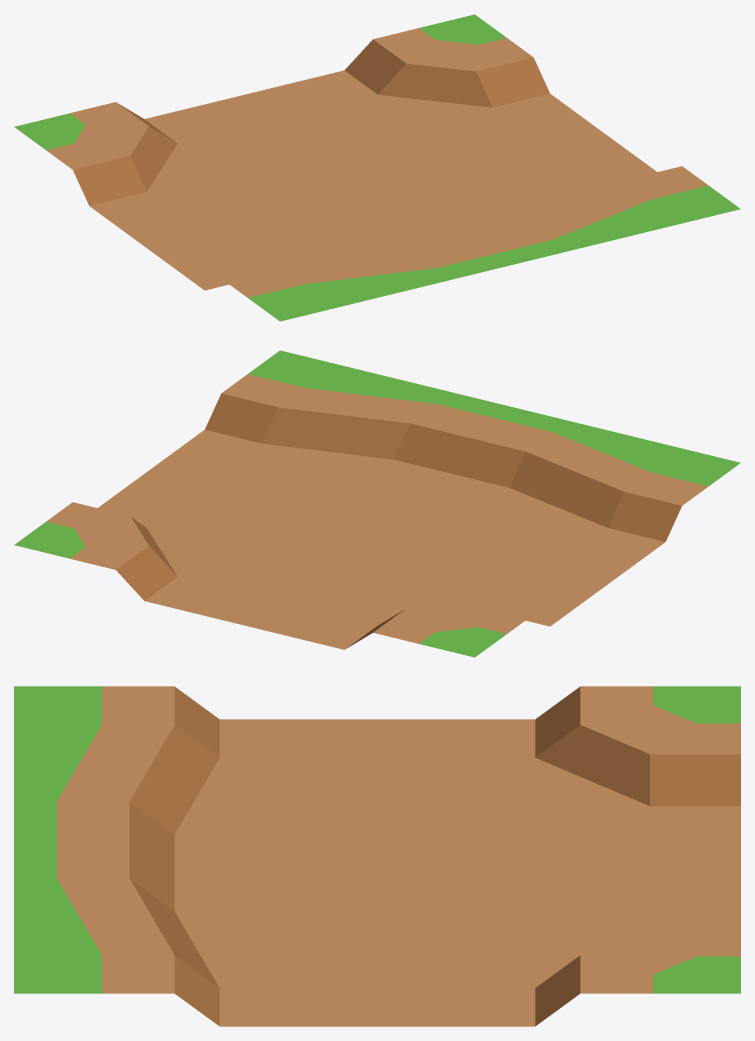
File: path-split.glb
3 views of the same model, one above another, from view 1: azimuth 30°, elevation 25°; view 2: azimuth 150°, elevation 25°; view 3: azimuth 270°, elevation 25° (orthographic). The views are drawn at different scales.
Parts seen in each view (by area): view 1: ground_pathSplit; view 2: ground_pathSplit; view 3: ground_pathSplit.
Boxes of the visible parts, x1,y1,x2,y2 form: ground_pathSplit: (14, 14, 740, 321); ground_pathSplit: (14, 350, 740, 657); ground_pathSplit: (14, 686, 740, 1026).
Bounding box in the file's own units: 4 × 0.2002 × 4.
